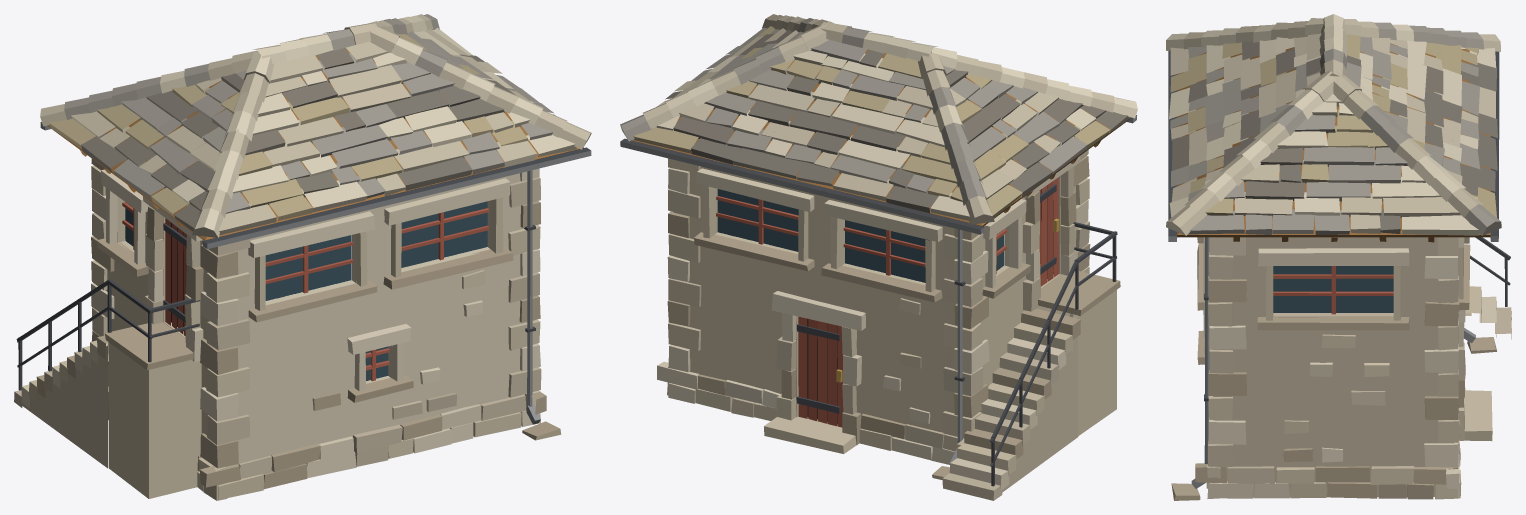
File: poste.glb
3 views of the same model, side by side, from view 1: azimuth 30°, elevation 25°; view 2: azimuth 150°, elevation 25°; view 3: azimuth 270°, elevation 25° (orthographic). The views are drawn at different scales.
Parts seen in each view (by area): view 1: poste; view 2: poste; view 3: poste.
Boxes of the visible parts, bbox=[...] form: poste: bbox=[14, 14, 591, 500]; poste: bbox=[620, 14, 1137, 500]; poste: bbox=[1166, 14, 1511, 500].
Bounding box in the file's own units: 7.84 × 6.93 × 5.74.
